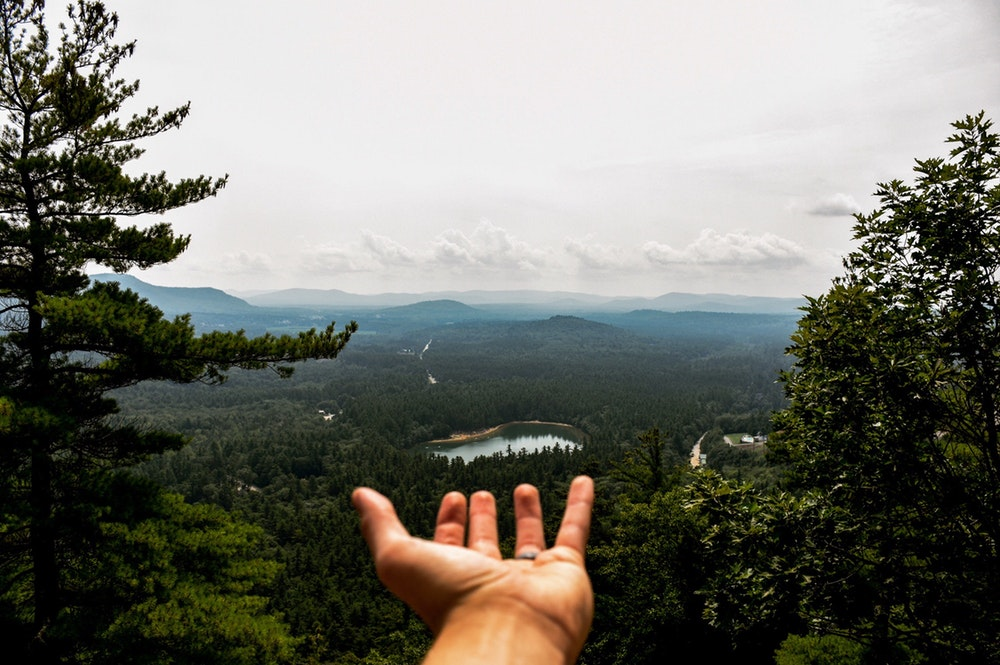palm: (420, 535, 598, 622)
